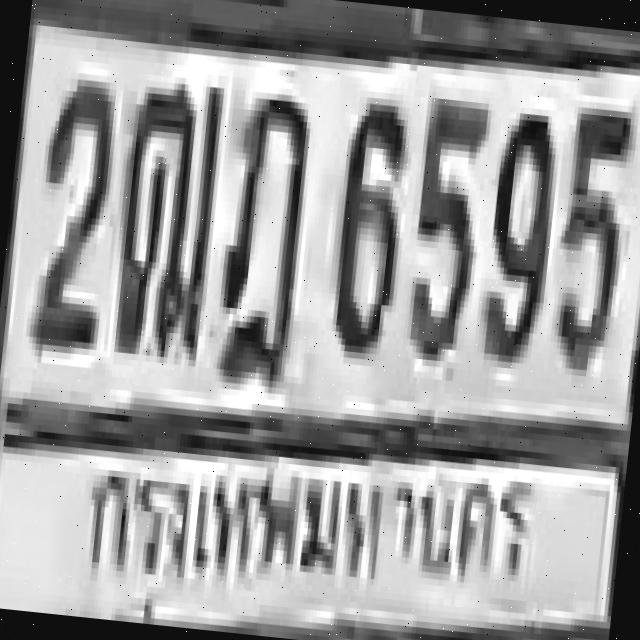2: (26, 70, 118, 342)
23DorChaDa: (208, 80, 314, 378)
27ThorPhuThao: (104, 72, 222, 354)
5: (546, 96, 634, 362), (401, 91, 489, 357)
6: (321, 94, 408, 348)
9: (475, 105, 558, 358)
Bangkok: (53, 419, 545, 640)
